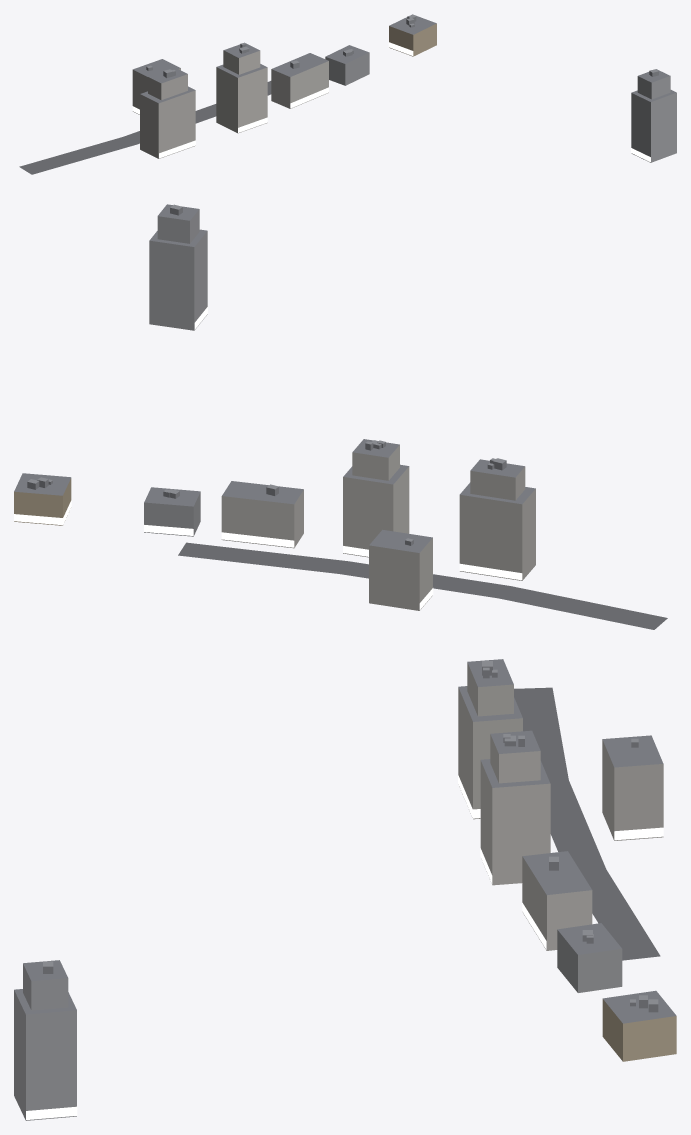
3 renders of one model, top to bottom at view 1: azimuth 30°, elevation 25°; view 2: azimuth 150°, elevation 25°; view 3: azimuth 270°, elevation 25°, orthographic. The views are drawn at different scales.
Bounding box in the file's own units: 342 × 51.66 × 217.
